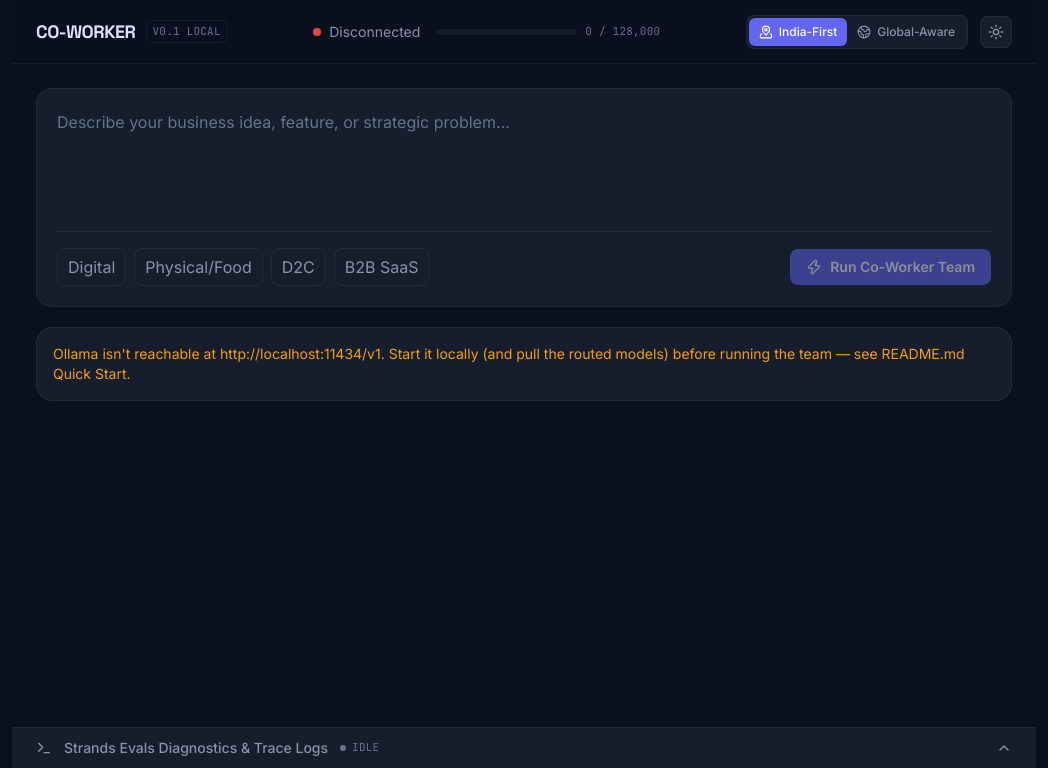
Test: App: loading skeleton › shows the run skeleton while a run is in flight and no result has landed yet
The width and height of the screenshot is (1048, 768).
Type "an idea" into the text box with placeholder "Describe your business idea, feature, or strategic problem…" at {"x": 524, "y": 159}, box left=57, top=109, right=991, bottom=209
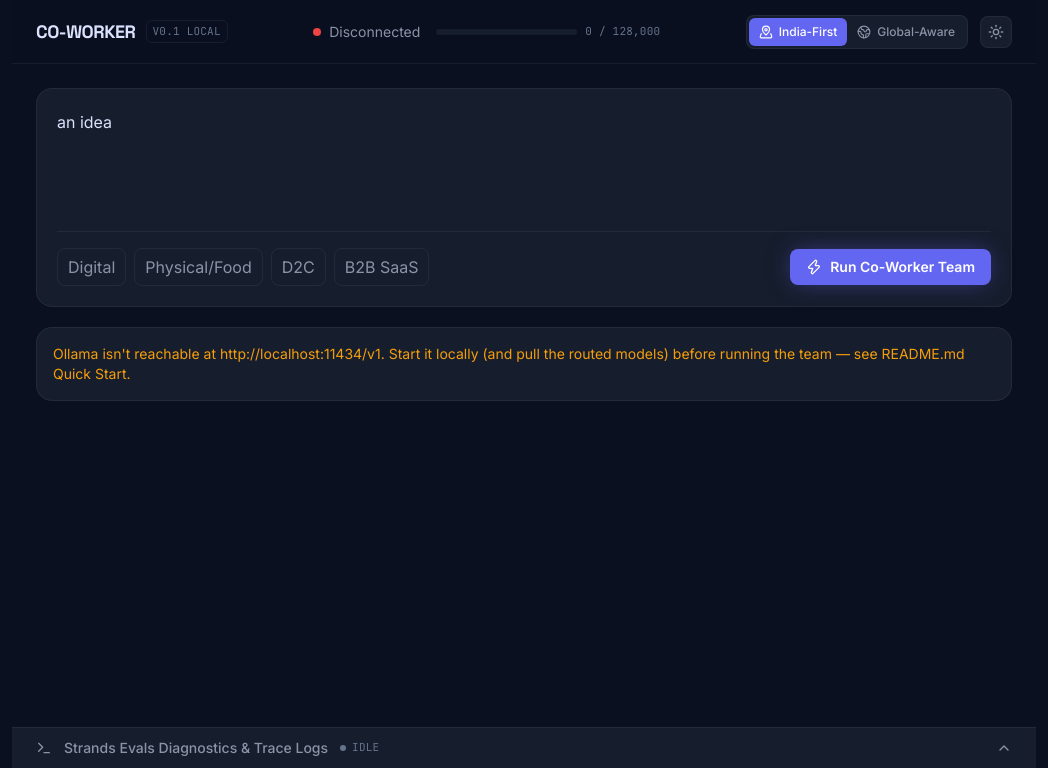
Click the button "Run Co-Worker Team" at {"x": 891, "y": 267}, box left=790, top=249, right=991, bottom=285
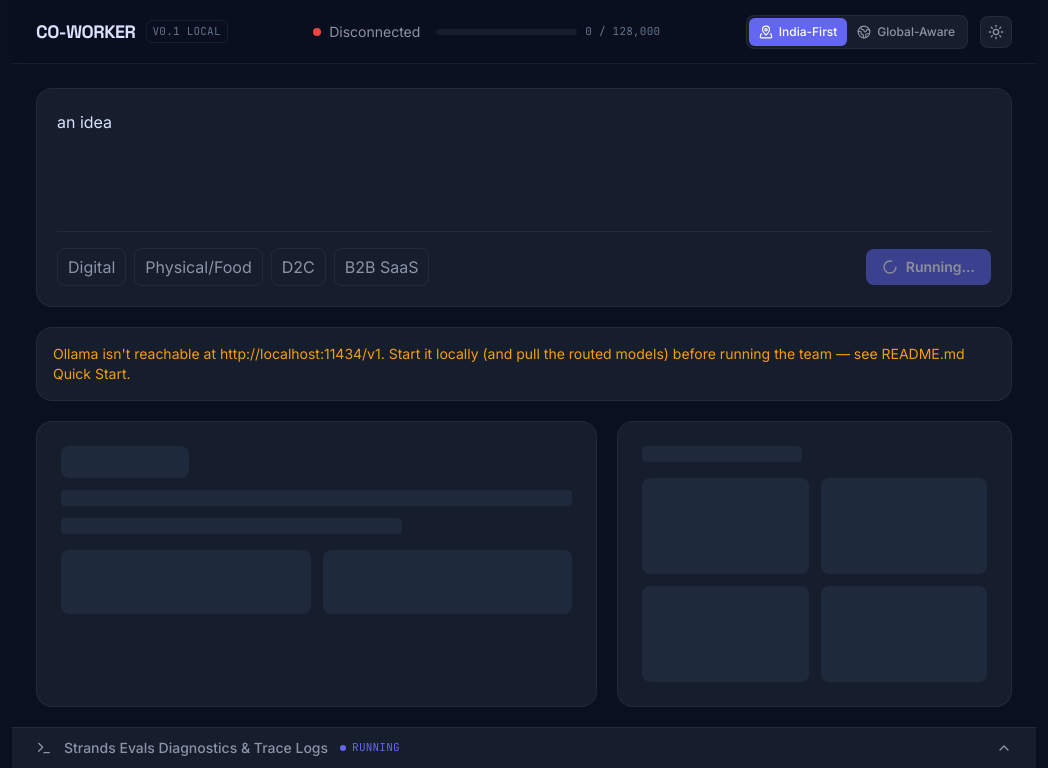
Check: the message with test id "run-skeleton" is shown, box left=36, top=421, right=1012, bottom=707
